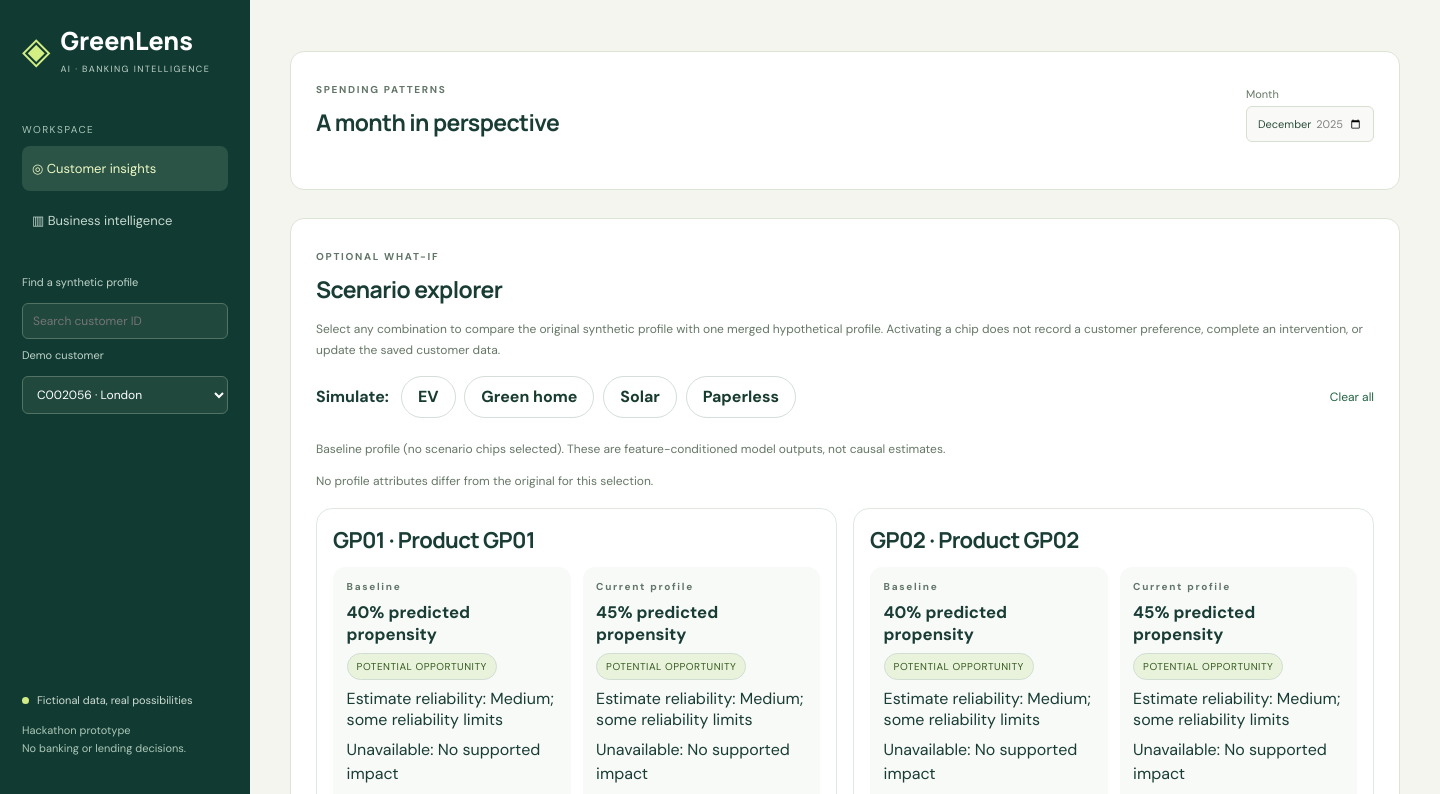
Test case: combinable scenario explorer › combines chips, reports aria-pressed, and clears back to baseline
This screenshot has width=1440, height=794.
(page scrolled)
Expected: the text "Baseline profile" is shown, [316,441,562,457]
Step 1. Click the button "EV" → (428, 397), box [401,376,456,418]
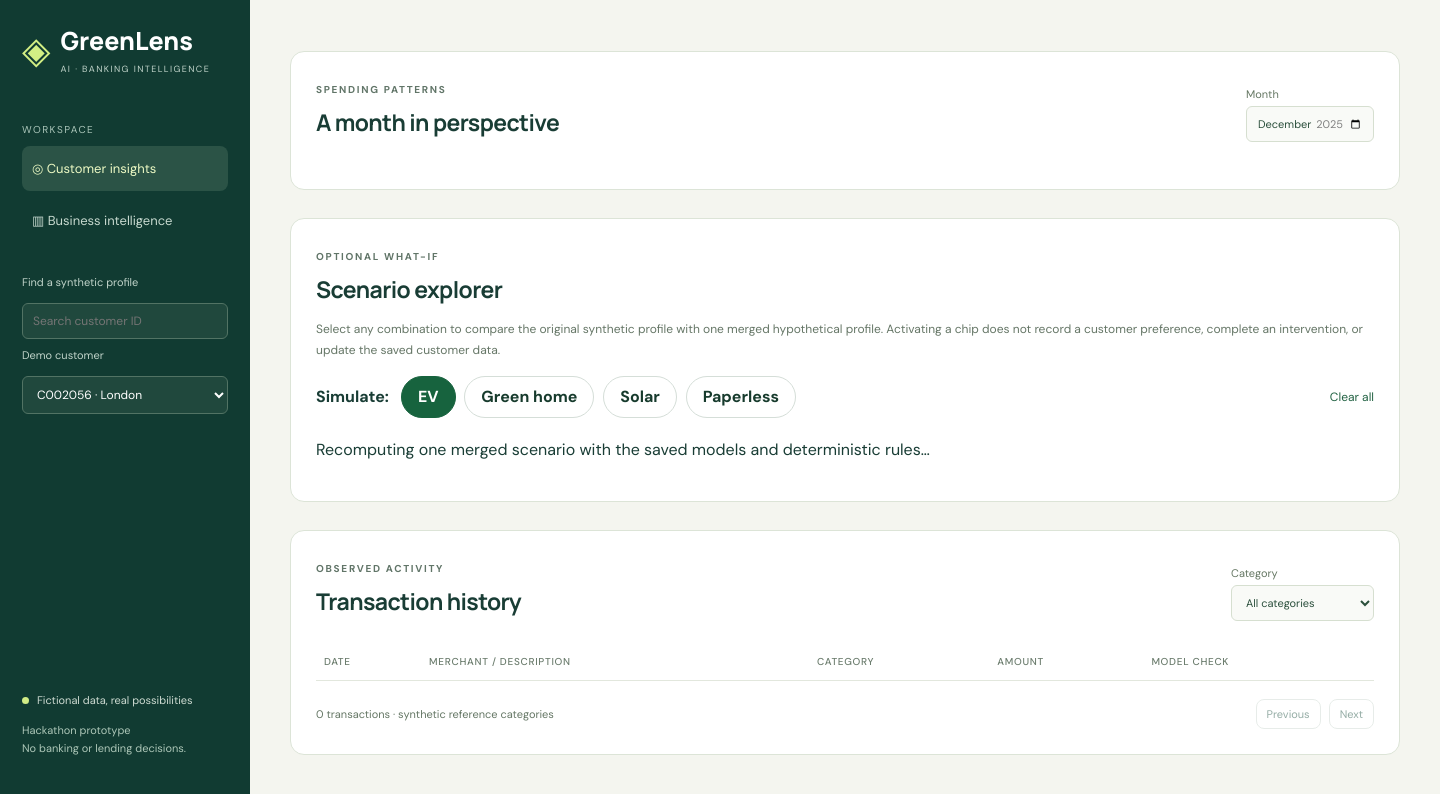
Step 2. Click the button "Solar" → (640, 397), box [603,376,677,418]
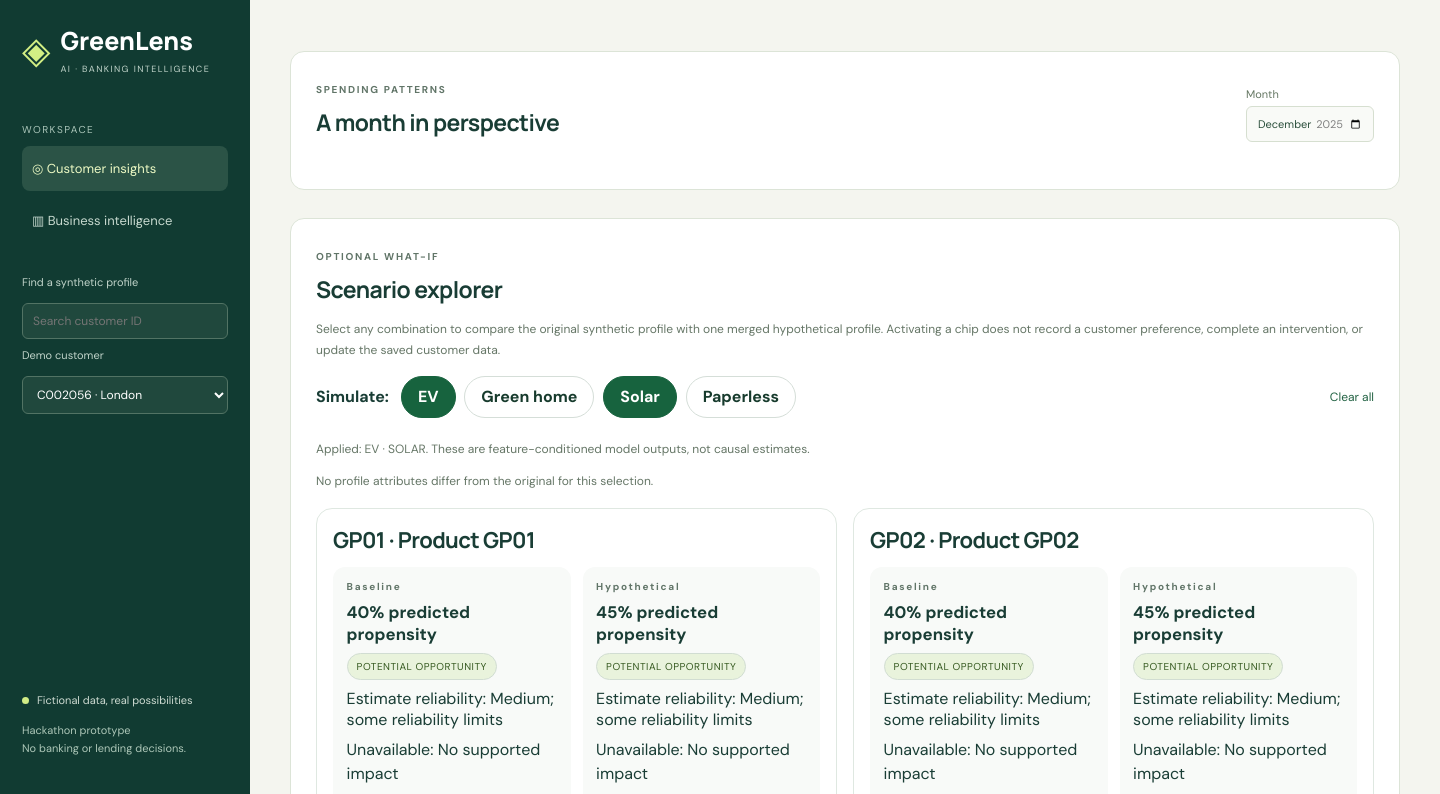
Now the text "Applied: EV · SOLAR" is shown, box [316,441,426,457]
Step 3. Click the button "Clear all" → (1352, 397), box [1330,385,1374,409]
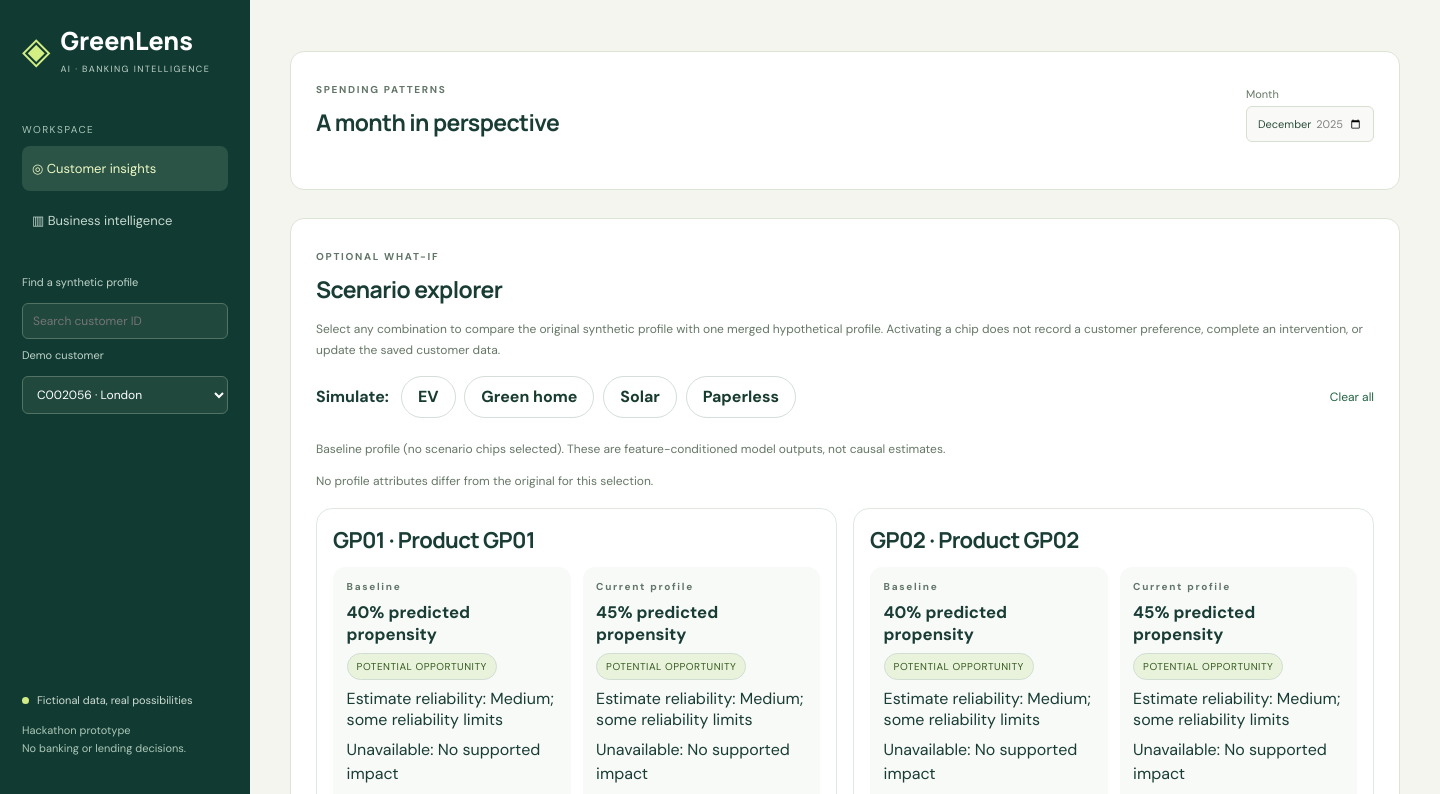
Now the text "Baseline profile" is shown, box [316,441,562,457]
